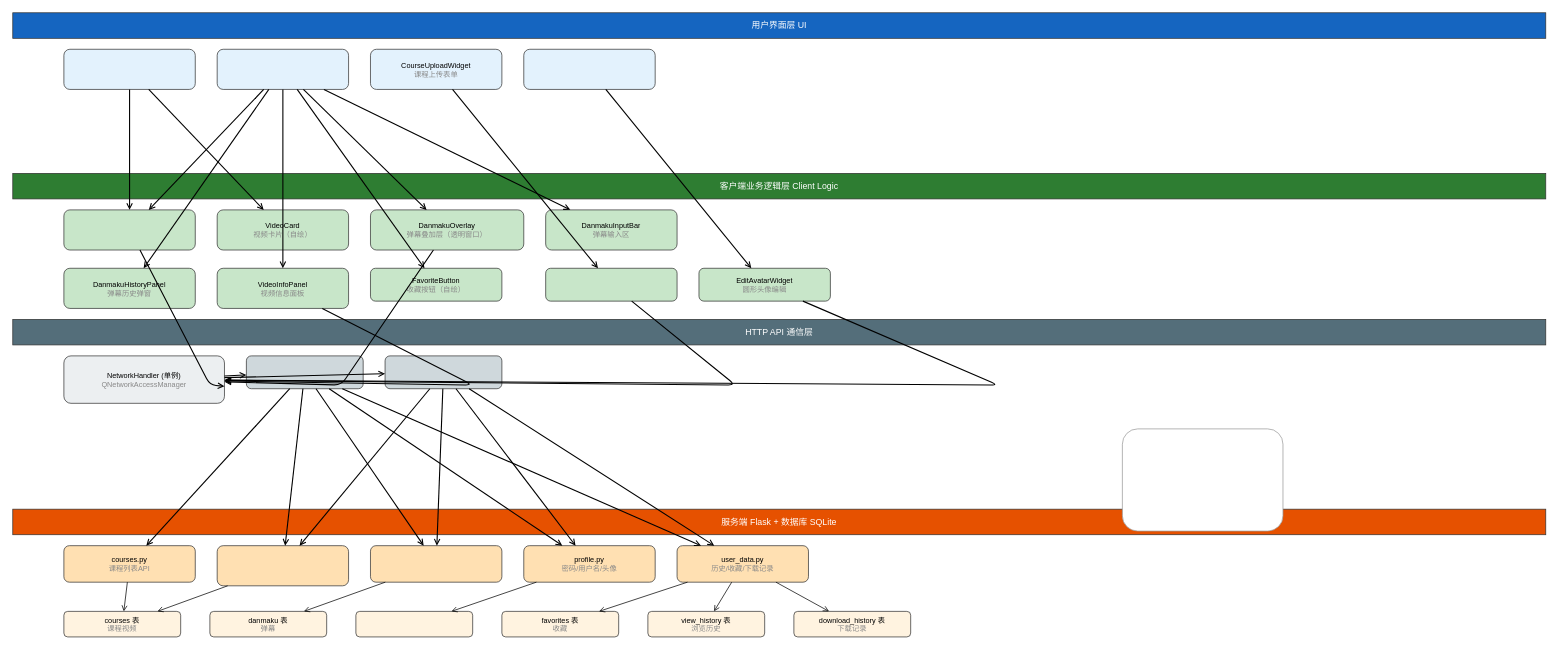
The diagram is 1559 pixels wide and 650 high, and some of its shapes have lost their labels. The shapes that lost their labels are listed below. From the top down, each one's centre as x and y in pixels, then its label:
At [129,69]: "SearchPage 搜索页（标签+搜索框）".
At [282,69]: "PlayerWidget 播放器容器".
At [589,69]: "ProfileEditWidget 个人资料编辑".
At [129,229]: "VideoMainWindow 视频主窗口".
At [611,284]: "CourseDropZone 文件拖放区".
At [304,372]: "GET 请求 查询数据".
At [443,372]: "POST/DELETE 提交/删除数据".
At [1202,479]: "图例 蓝 = UI 组件 绿 = 业务逻辑层 灰 = HTTP 通信层 橙 = 服务端/数据库 → 数据流向".
At [282,565]: "course_upload.py 上传/视频流/缩略图".
At [436,563]: "danmaku.py 发送/初始化/轮询".
At [414,624]: "users 表 用户信息".
